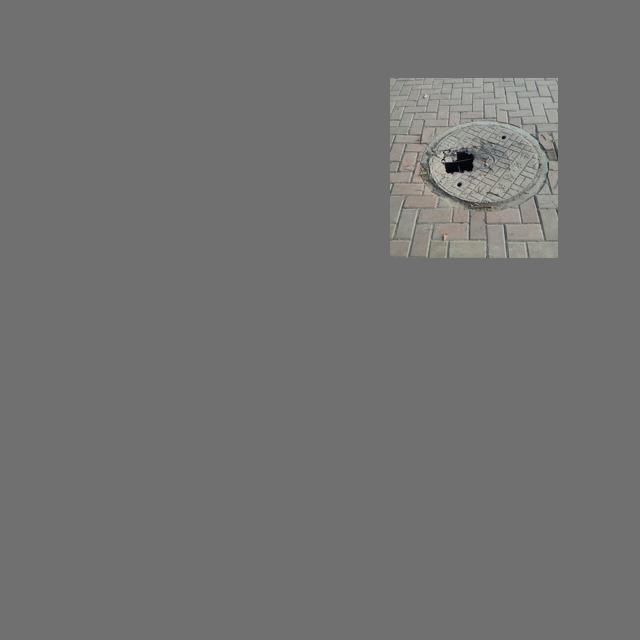broke: (415, 116, 550, 212)
